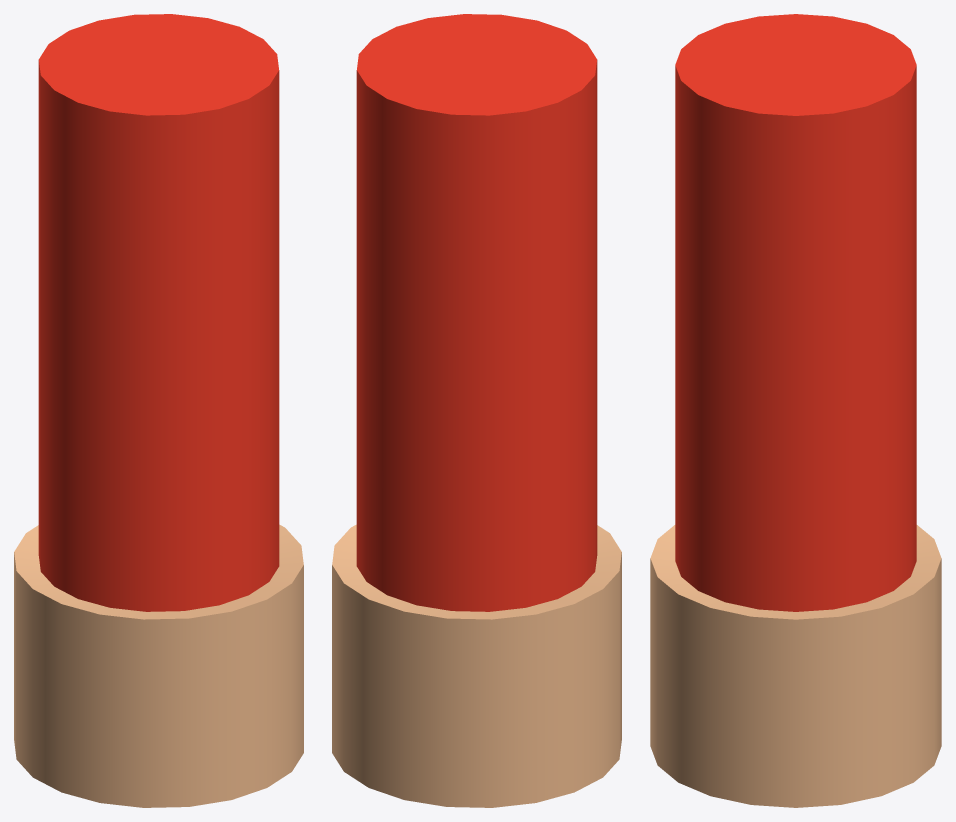
The model's file is Sleeve Shotgun.fbx.
3 renders of one model, left to right at view 1: azimuth 30°, elevation 25°; view 2: azimuth 150°, elevation 25°; view 3: azimuth 270°, elevation 25°, orthographic.
Parts seen in each view (by area): view 1: Sleeve Shotgun; view 2: Sleeve Shotgun; view 3: Sleeve Shotgun.
Boxes of the visible parts, box(x1,y1,x2,y2) form: Sleeve Shotgun: box(14, 14, 303, 807); Sleeve Shotgun: box(332, 14, 621, 807); Sleeve Shotgun: box(650, 14, 941, 807).
Bounding box in the file's own units: 0.1174 × 0.3033 × 0.1174.
